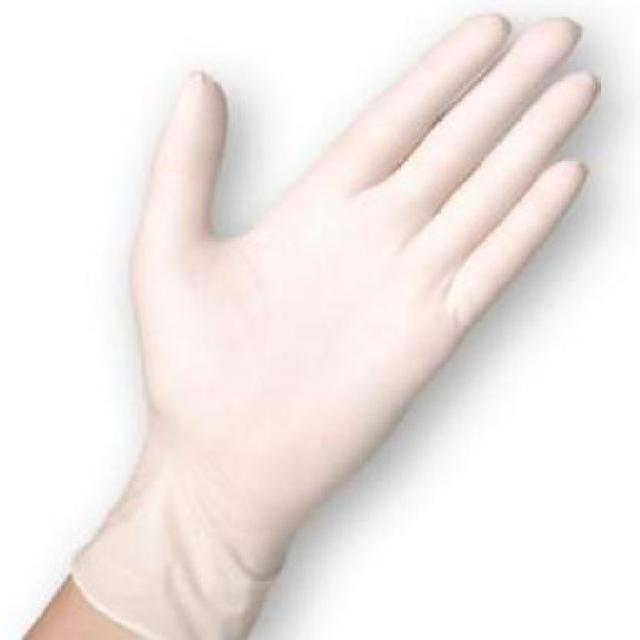Gloves: (74, 11, 612, 634)
